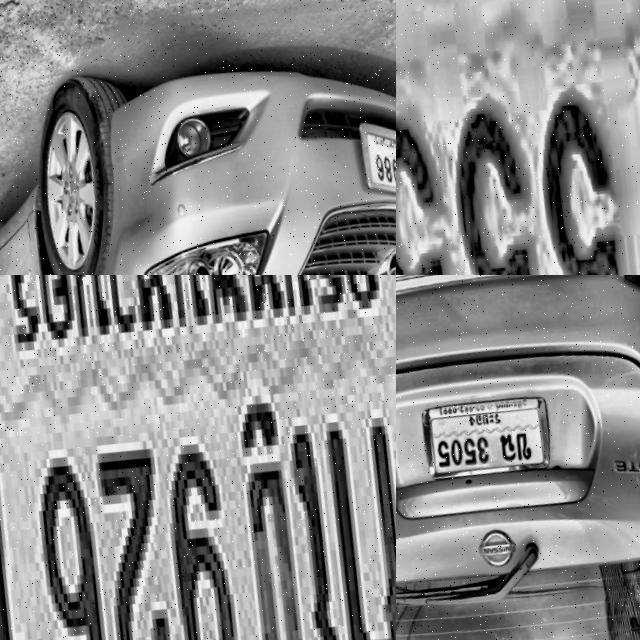license-plate: (0, 275, 396, 640), (396, 0, 640, 275), (410, 361, 576, 493), (346, 90, 396, 206)
